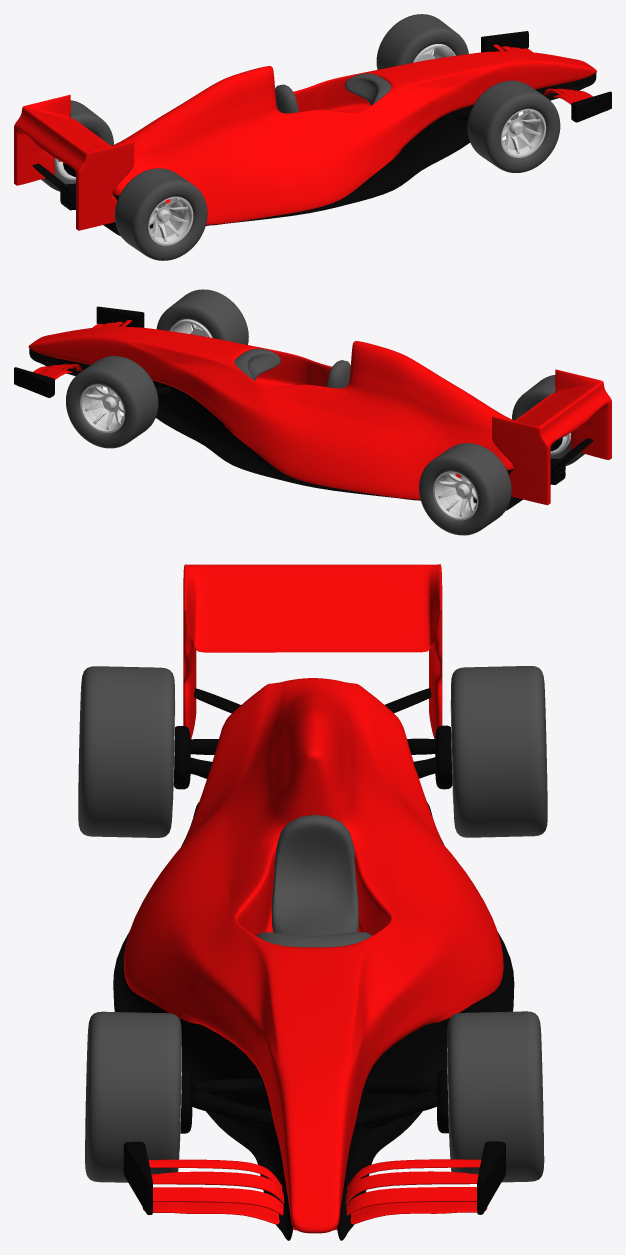
File: F1tenth_car.dae
3 views of the same model, one above another, from view 1: azimuth 30°, elevation 25°; view 2: azimuth 150°, elevation 25°; view 3: azimuth 270°, elevation 25° (orthographic). The views are drawn at different scales.
Parts seen in each view (by area): view 1: F1Car; view 2: F1Car; view 3: F1Car.
Part boxes in pixels (left/top/right/bottom): F1Car: left=14, top=14, right=611, bottom=260; F1Car: left=14, top=289, right=611, bottom=535; F1Car: left=78, top=564, right=547, bottom=1240.
Bounding box in the file's own units: 0.3975 × 0.1475 × 0.0799.
